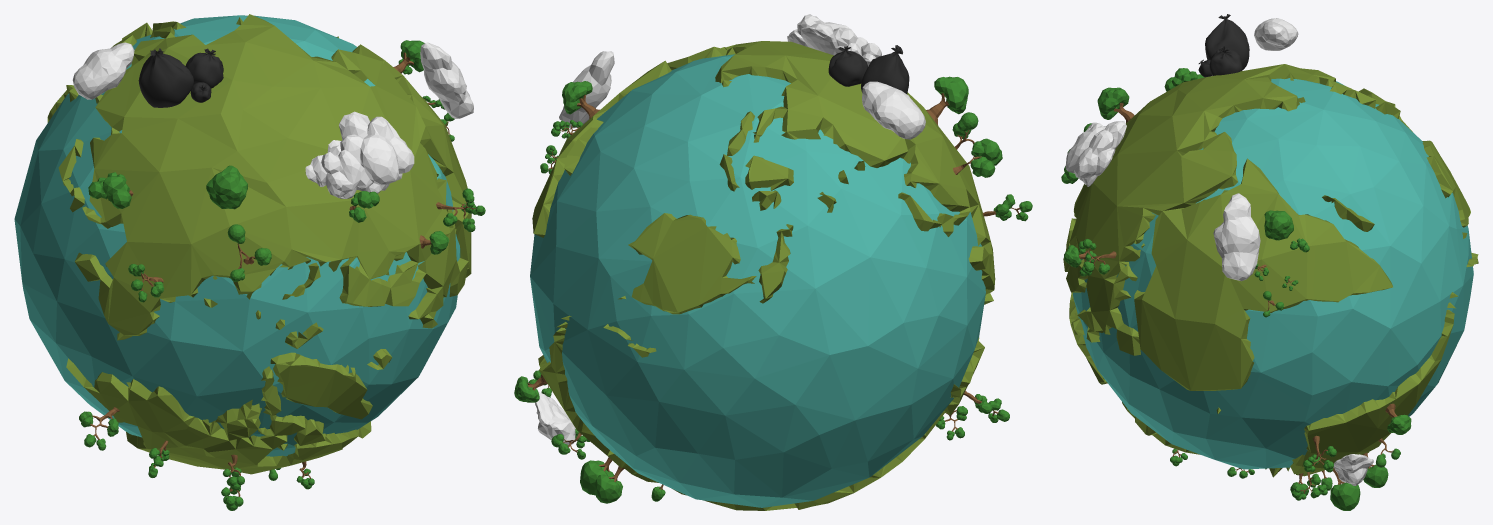
File: STEA.fbx
The picture shows the model from 3 angles, left to right: view 1: azimuth 30°, elevation 25°; view 2: azimuth 150°, elevation 25°; view 3: azimuth 270°, elevation 25°; orthographic projection. The views are drawn at different scales.
Visible parts, largest first — view 1: all_good.003; view 2: all_good.003; view 3: all_good.003.
Boxes of the visible parts, x1,y1,x2,y2 form: all_good.003: (14, 14, 485, 510); all_good.003: (514, 14, 1032, 510); all_good.003: (1061, 14, 1478, 510).
Size of the model in its own units: 103 by 110 by 102.
